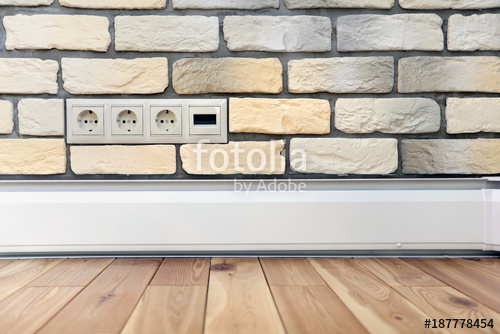raccoon: (152, 106, 178, 135), (114, 106, 139, 136), (75, 106, 99, 134)
